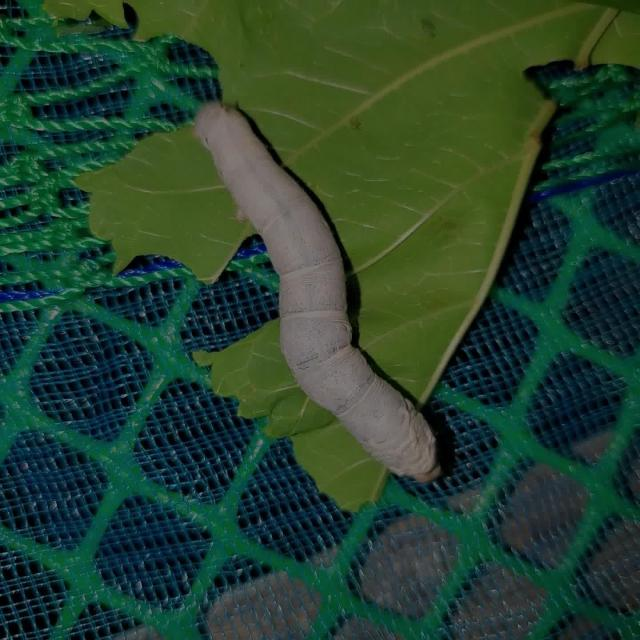Healthy: (175, 77, 473, 501)
